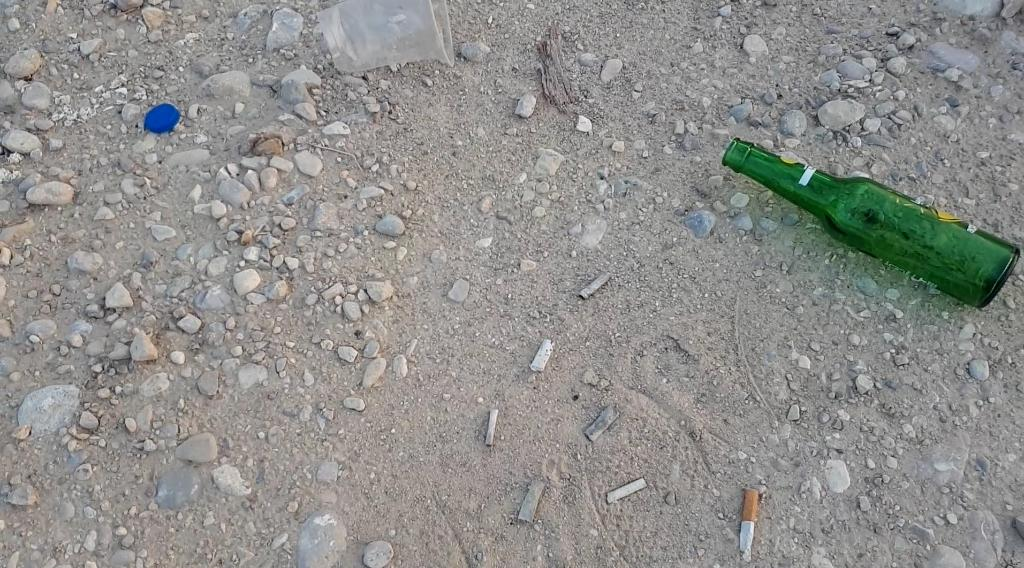garbage: (686, 119, 1024, 309), (721, 138, 1020, 309), (730, 478, 761, 567)
